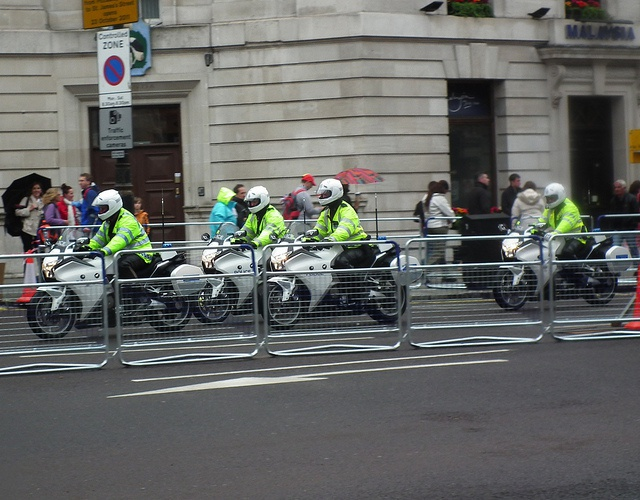non-vehicle: (27, 236, 205, 341), (267, 229, 407, 328), (494, 222, 638, 314), (197, 231, 264, 324)
